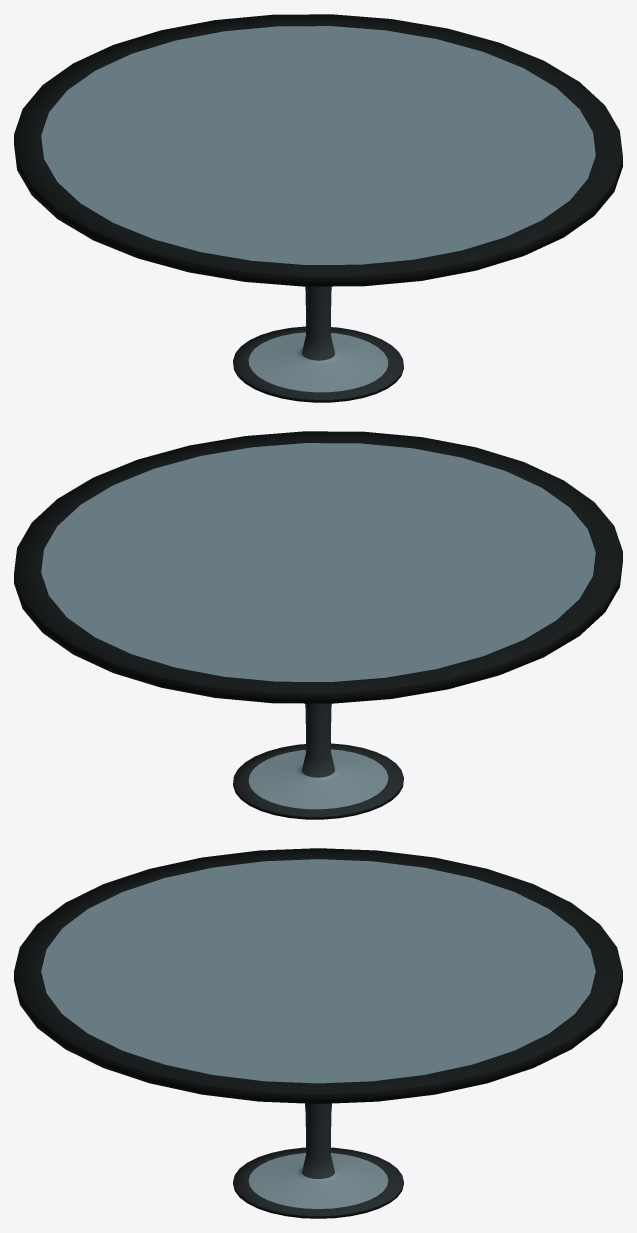
The model's file is mesa.fbx.
3 renders of one model, top to bottom at view 1: azimuth 30°, elevation 25°; view 2: azimuth 150°, elevation 25°; view 3: azimuth 270°, elevation 25°, orthographic. The views are drawn at different scales.
Parts seen in each view (by area): view 1: Cylinder.001; view 2: Cylinder.001; view 3: Cylinder.001.
Boxes of the visible parts, bbox=[...] form: Cylinder.001: bbox=[14, 14, 622, 402]; Cylinder.001: bbox=[14, 431, 622, 819]; Cylinder.001: bbox=[14, 848, 622, 1218].
Bounding box in the file's own units: 302 × 122 × 316.
Materials: 1 (1 with a texture image).
